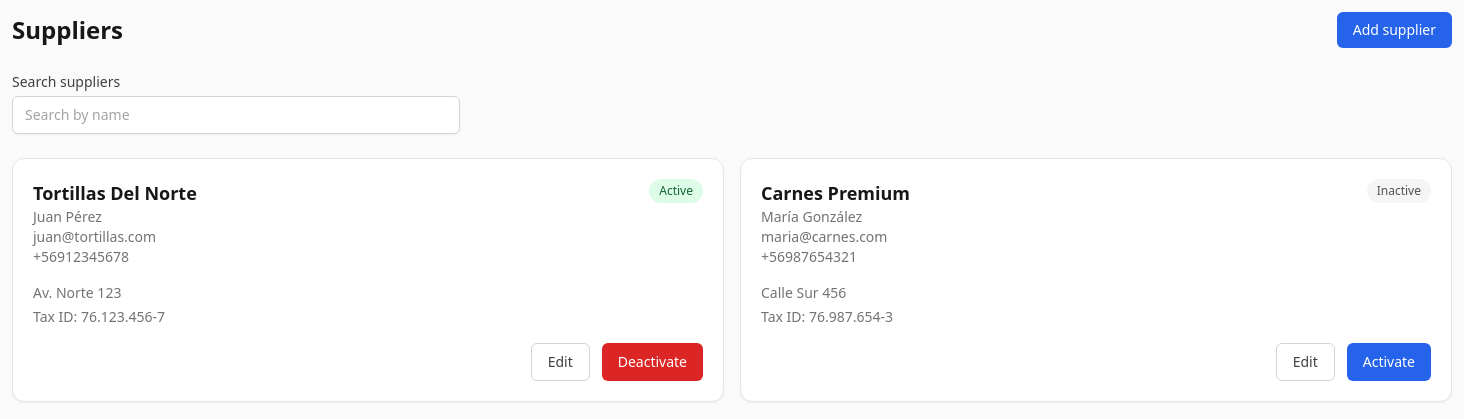
Test: SuppliersPage › deactivates an active supplier
Check: the heading "Tortillas Del Norte" is shown, box left=33, top=179, right=197, bottom=207
Click the button "Deactivate" at (652, 362), box left=602, top=343, right=703, bottom=381
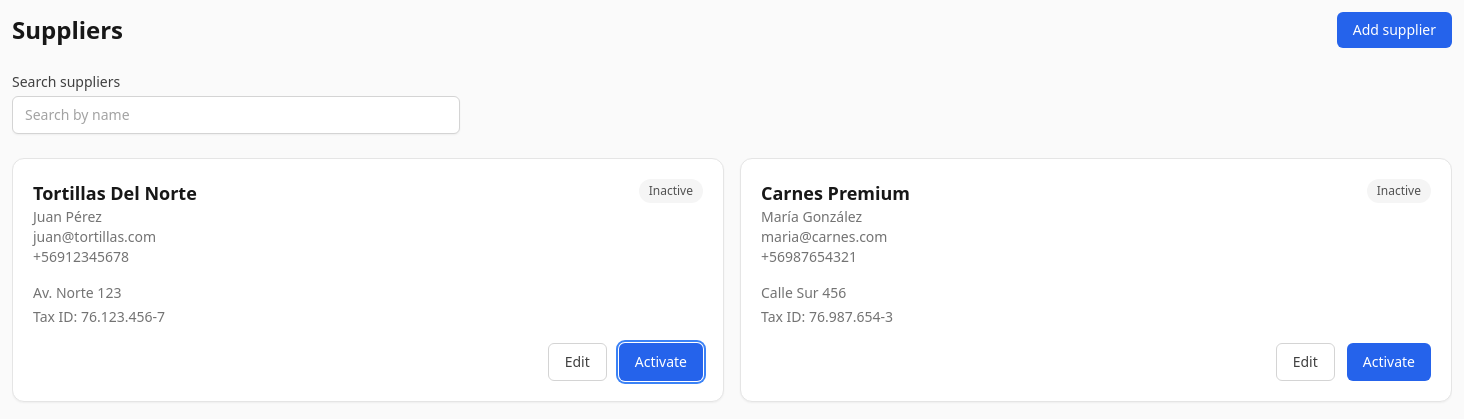
Check: the button with test id "toggle-supplier-button" reads "Activate", box left=619, top=343, right=703, bottom=381
